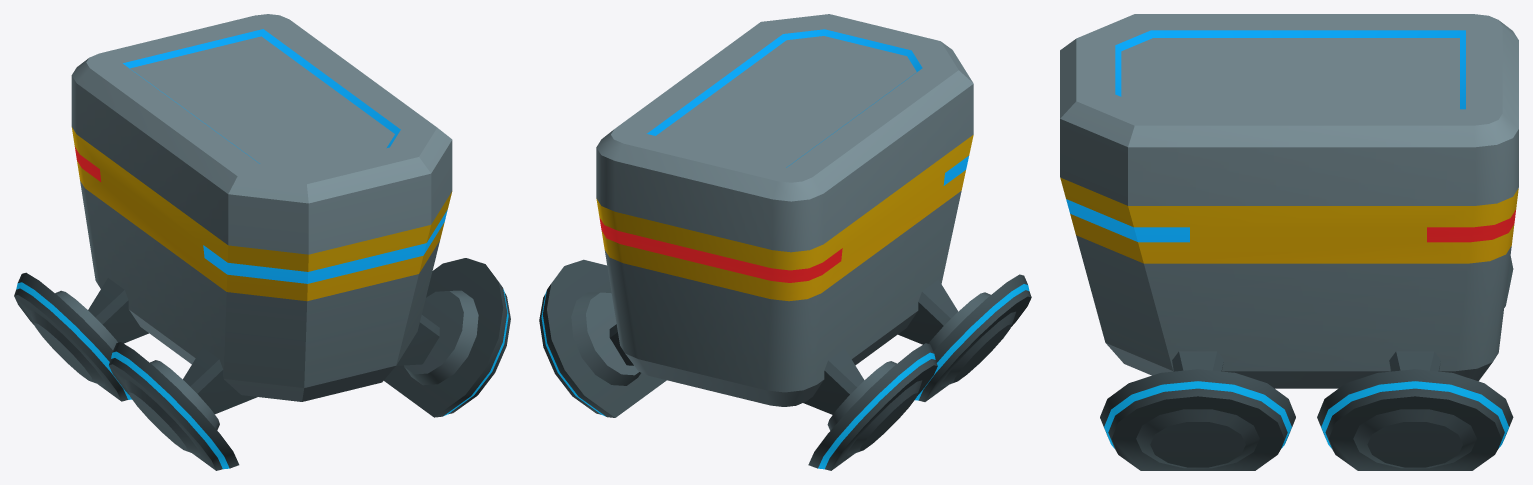
The model's file is Delivery_drone_003.glb.
The picture shows the model from 3 angles, left to right: view 1: azimuth 30°, elevation 25°; view 2: azimuth 150°, elevation 25°; view 3: azimuth 270°, elevation 25°; orthographic projection. The views are drawn at different scales.
Parts seen in each view (by area): view 1: Delivery_drone_003; view 2: Delivery_drone_003; view 3: Delivery_drone_003.
Boxes of the visible parts, x1,y1,x2,y2 form: Delivery_drone_003: (14,14,510,470); Delivery_drone_003: (539,14,1031,470); Delivery_drone_003: (1060,14,1518,470).
Bounding box in the file's own units: 0.9108 × 0.6846 × 0.85.
2 materials, 2 textured.
